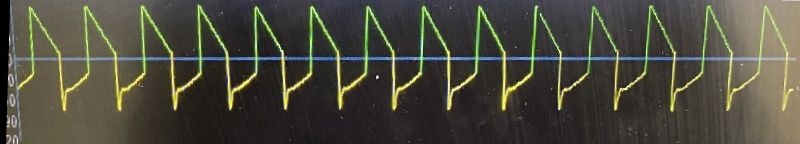peepi: (20, 0, 800, 116)
